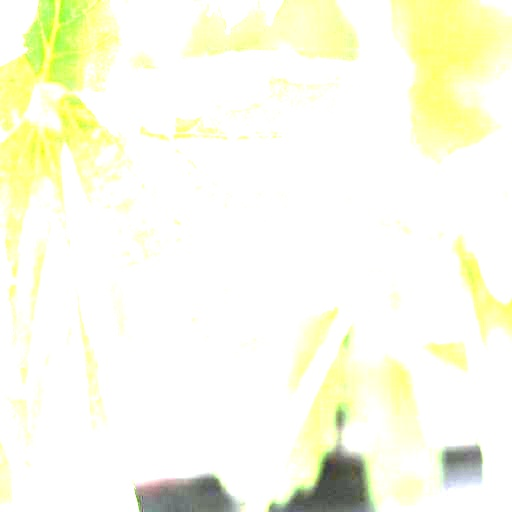Powdery Mildew Leaf: (55, 52, 414, 359), (0, 102, 141, 511), (335, 131, 511, 343)
